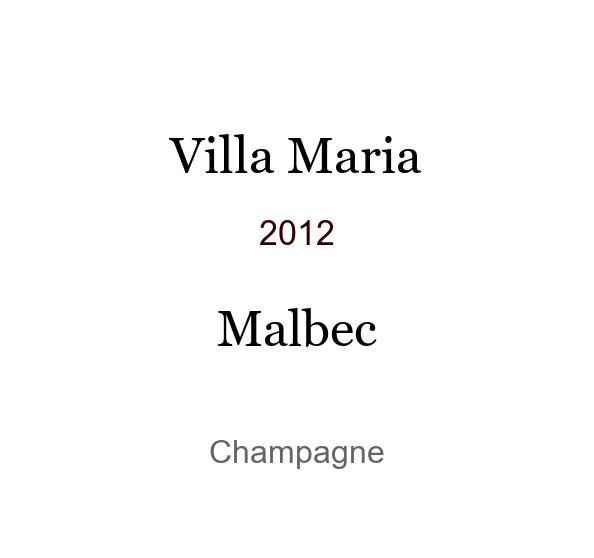brand: (170, 126, 423, 165)
region: (209, 434, 385, 463)
variety: (217, 300, 377, 339)
vintage: (259, 214, 335, 239)
